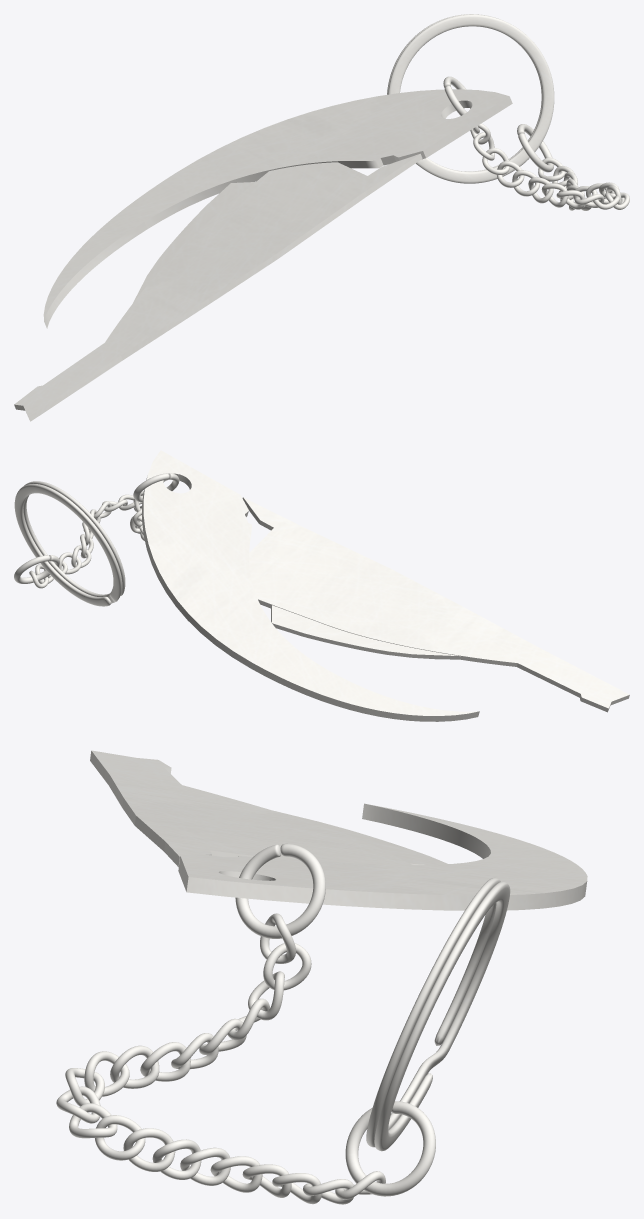
3 views of the same model, one above another, from view 1: azimuth 30°, elevation 25°; view 2: azimuth 150°, elevation 25°; view 3: azimuth 270°, elevation 25° (orthographic). The views are drawn at different scales.
Parts seen in each view (by area): view 1: calatravaBottleOpener; view 2: calatravaBottleOpener; view 3: calatravaBottleOpener.
Part boxes in pixels (<box>): calatravaBottleOpener: <box>14,14,629,421</box>; calatravaBottleOpener: <box>14,450,629,721</box>; calatravaBottleOpener: <box>56,750,587,1204</box>.
Size of the model in its own units: 68.62 by 20.84 by 29.47.
1 material, 1 textured.
